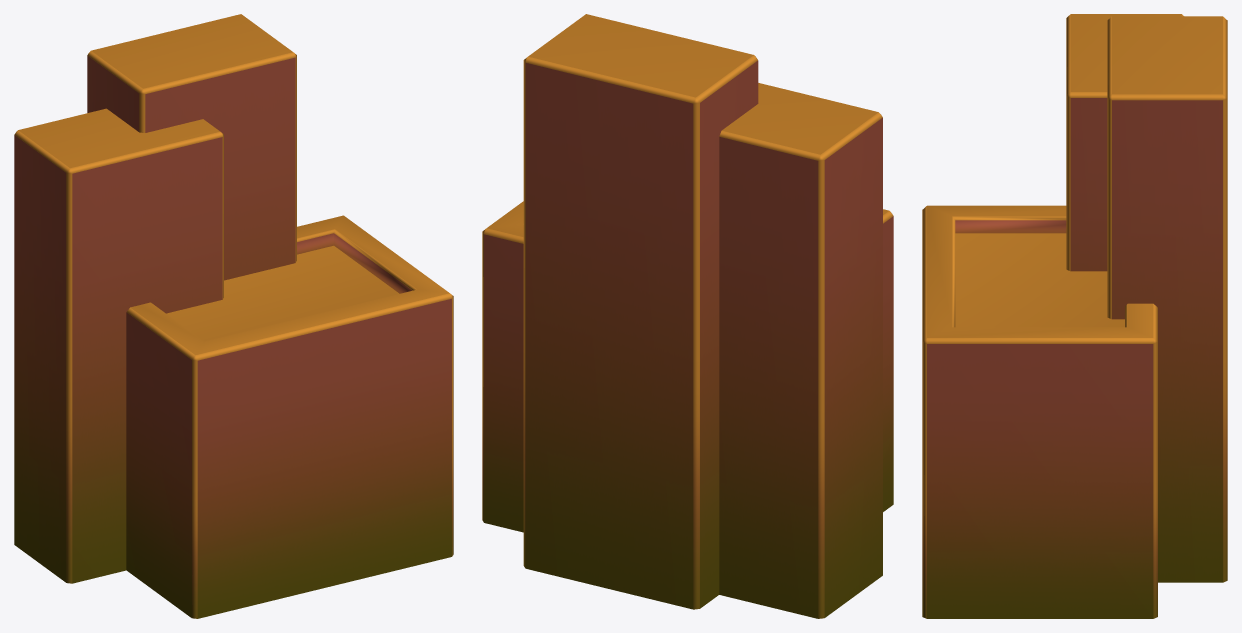
The model's file is prop_BuildingSmall05.fbx.
3 views of the same model, side by side, from view 1: azimuth 30°, elevation 25°; view 2: azimuth 150°, elevation 25°; view 3: azimuth 270°, elevation 25° (orthographic). The views are drawn at different scales.
Parts seen in each view (by area): view 1: prop_BuildingSmall05; view 2: prop_BuildingSmall05; view 3: prop_BuildingSmall05.
Boxes of the visible parts, x1,y1,x2,y2 form: prop_BuildingSmall05: [14, 14, 453, 618]; prop_BuildingSmall05: [482, 14, 893, 618]; prop_BuildingSmall05: [922, 14, 1227, 618].
Size of the model in its own units: 856 by 1168 by 664.
